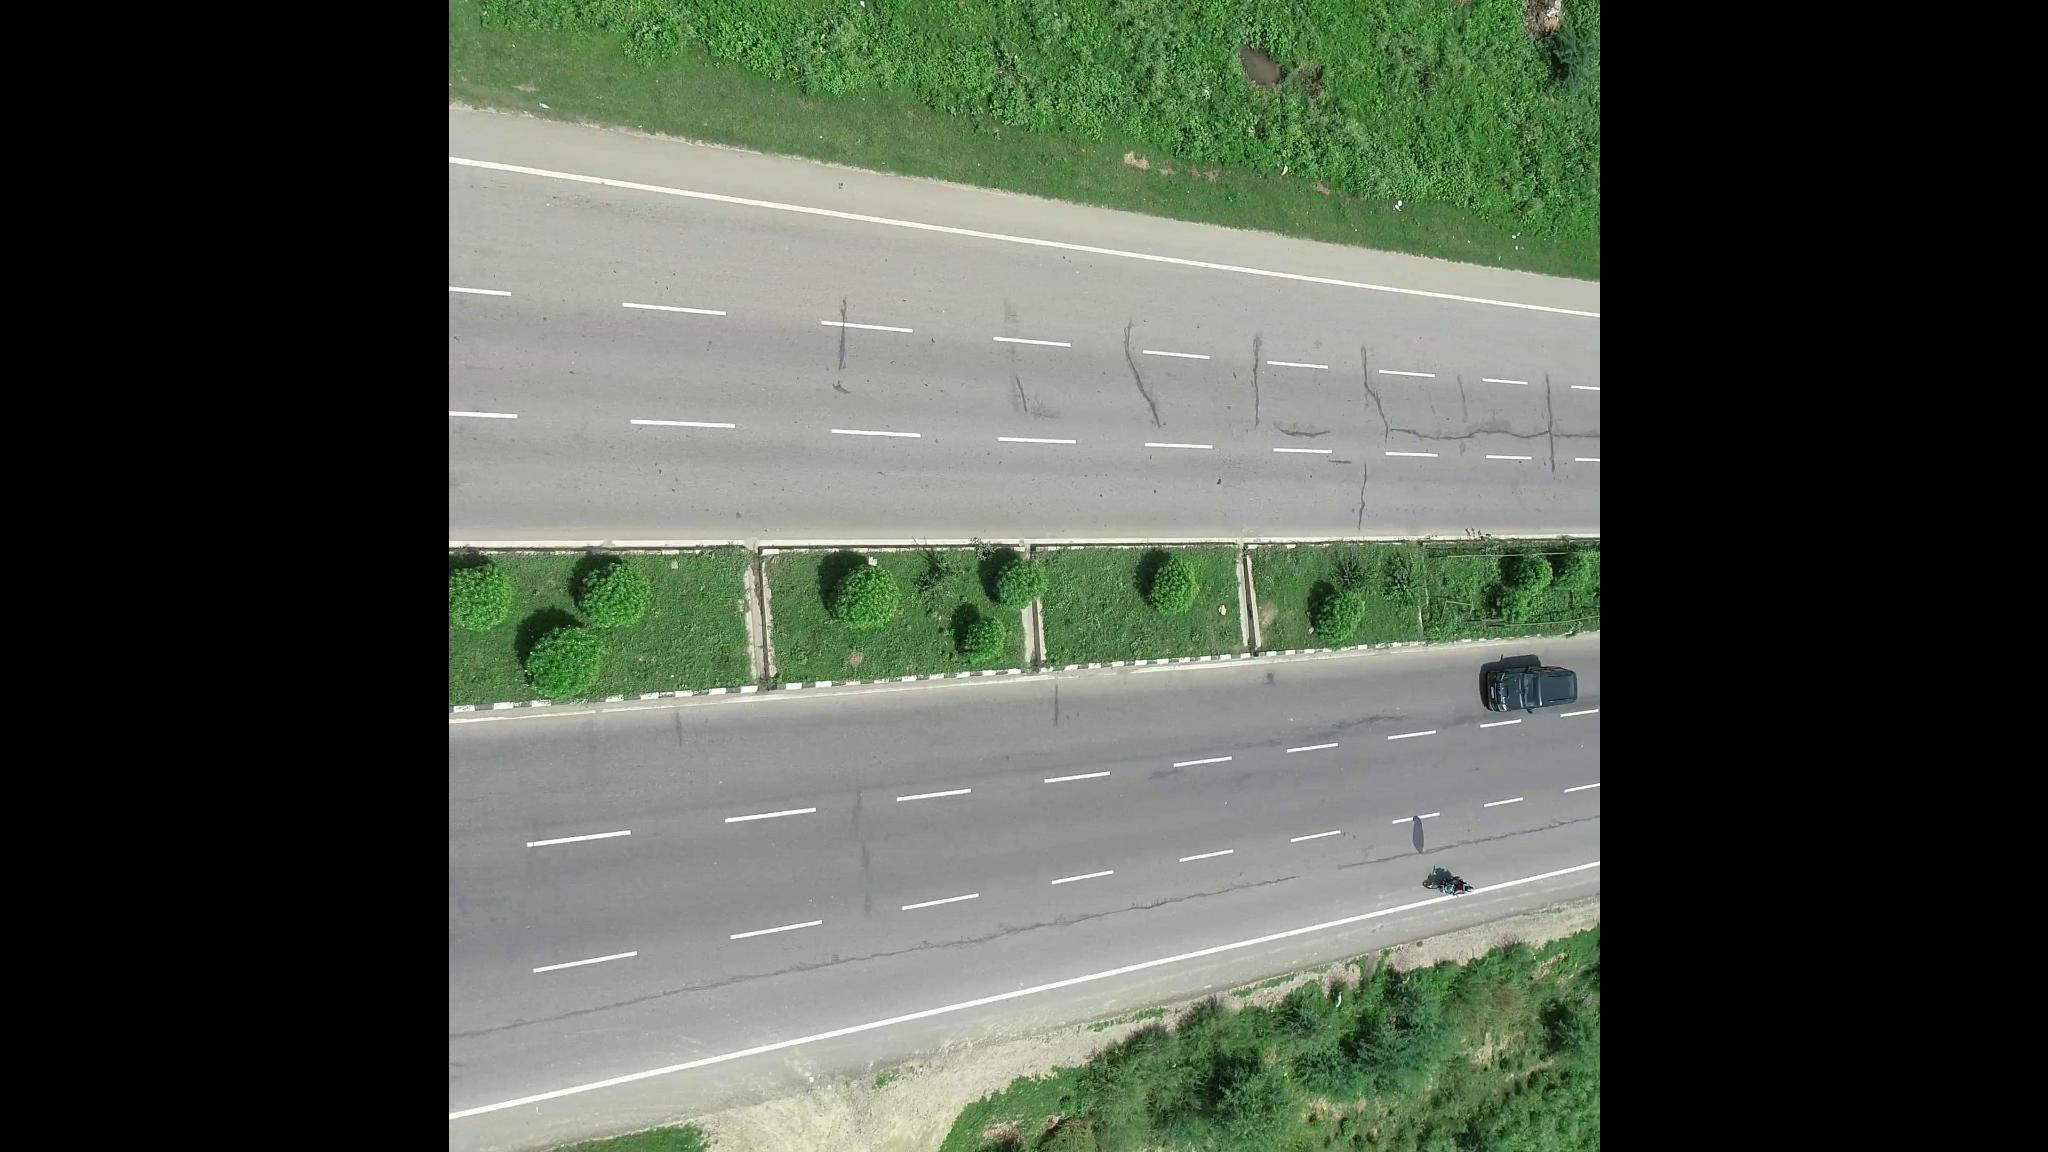Cracks: (452, 959, 831, 1044), (844, 897, 1142, 964), (1159, 852, 1402, 906), (1431, 813, 1598, 855), (1393, 421, 1598, 444)
